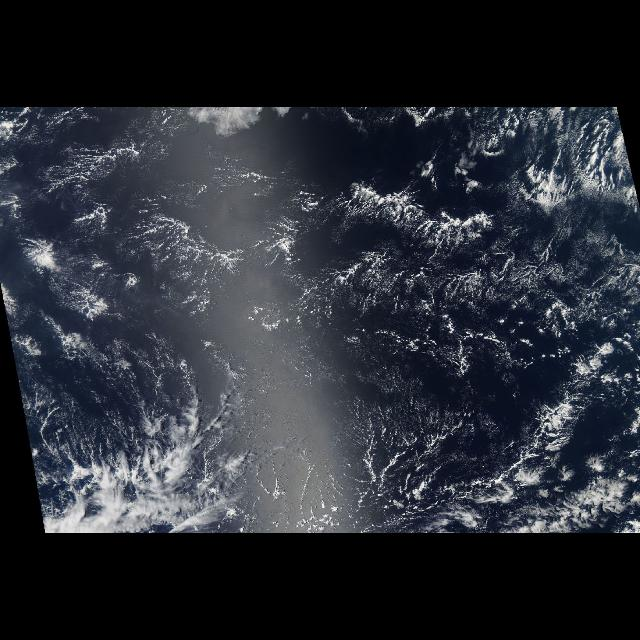Fish: (3, 169, 633, 335), (352, 343, 600, 523)
Flower: (4, 153, 206, 400)
